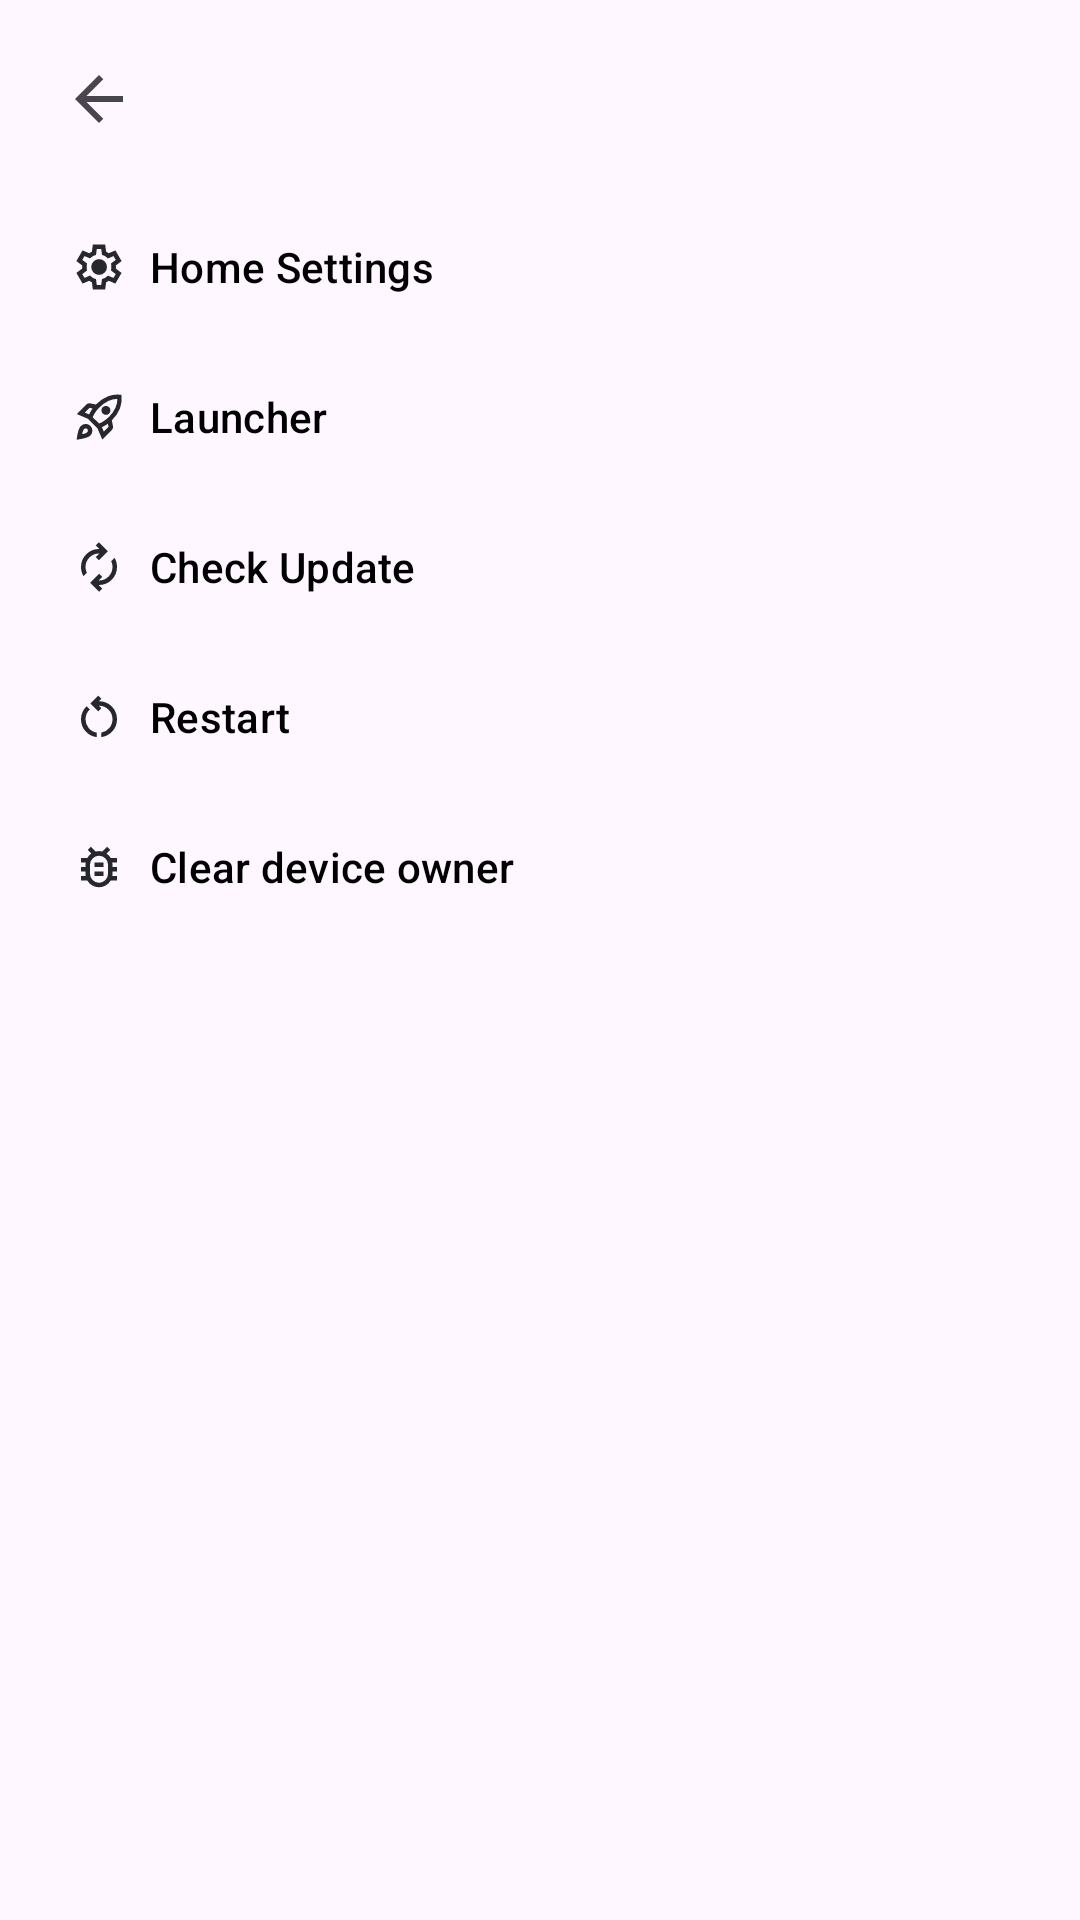

Named icons in this screenshot (1080×1920) and their centers, (x,y):
back: (99,99)
